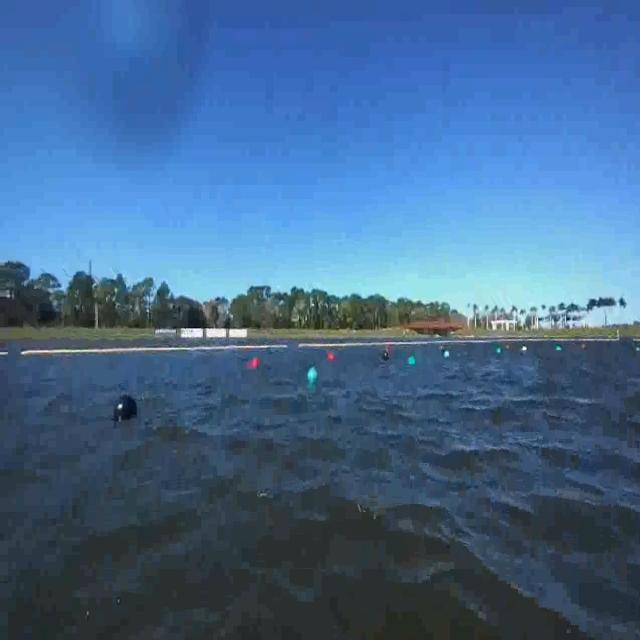black-buoy: (112, 398, 138, 424)
green-buoy: (306, 366, 316, 382)
red-buoy: (249, 354, 261, 373), (327, 353, 334, 361)
